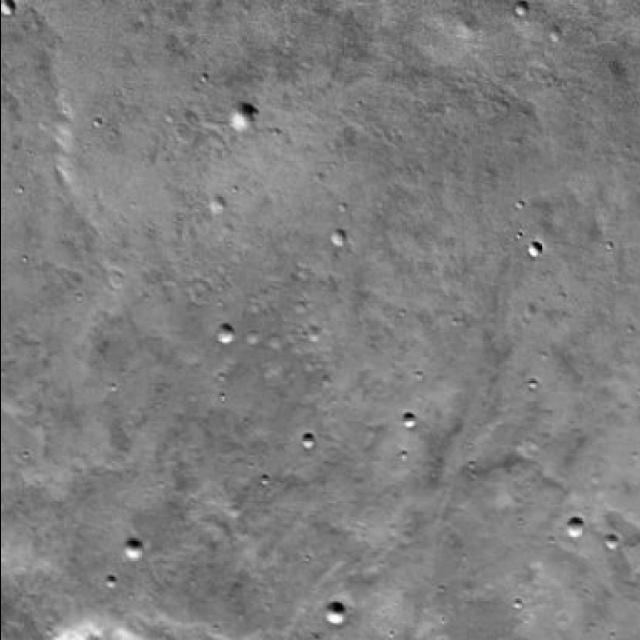crater: (560, 517, 586, 540), (233, 104, 253, 128), (326, 599, 346, 619), (215, 324, 233, 346), (124, 540, 141, 560), (400, 410, 416, 428)
